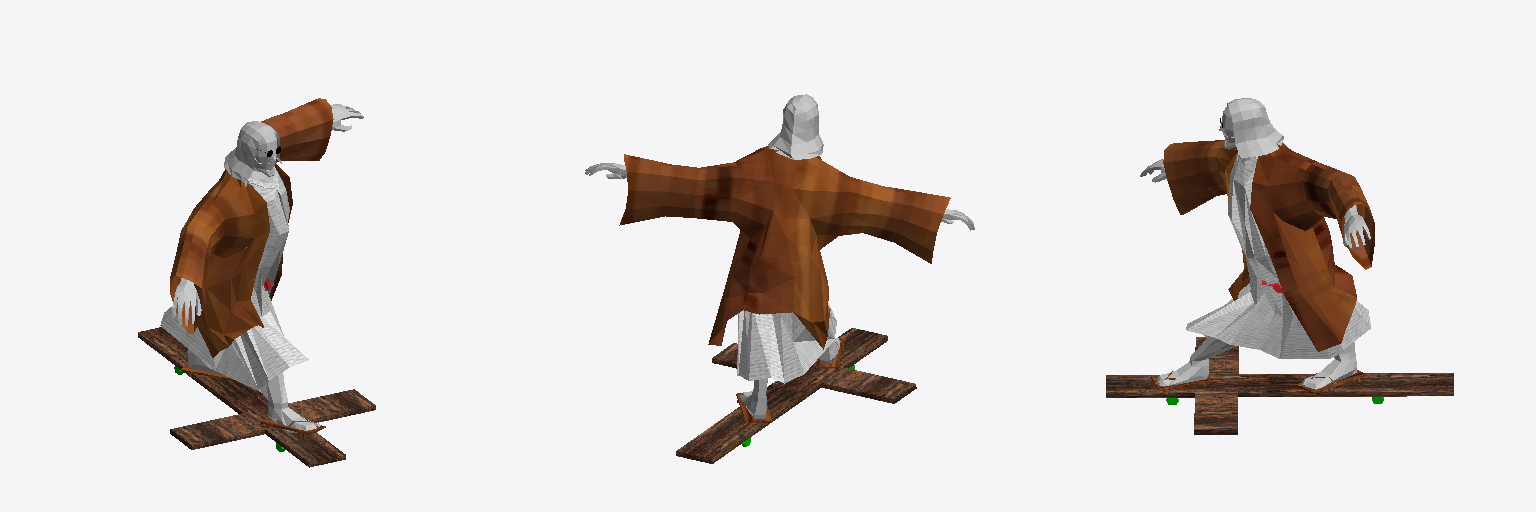
The picture shows the model from 3 angles: view 1: azimuth 30°, elevation 25°; view 2: azimuth 150°, elevation 25°; view 3: azimuth 270°, elevation 25°; orthographic projection.
Visible parts, largest first — view 1: Cube.001, Cube; view 2: Cube.001, Cube; view 3: Cube.001, Cube.
Boxes of the visible parts, box(x1,y1,x2,y2) form: Cube.001: box(160, 98, 363, 438); Cube: box(138, 327, 375, 467); Cube.001: box(585, 94, 974, 422); Cube: box(676, 328, 916, 463); Cube.001: box(1140, 98, 1374, 394); Cube: box(1106, 337, 1453, 434).
Bounding box in the file's own units: 15.71 × 15.54 × 16.43.
Materials: 9 (4 with a texture image).